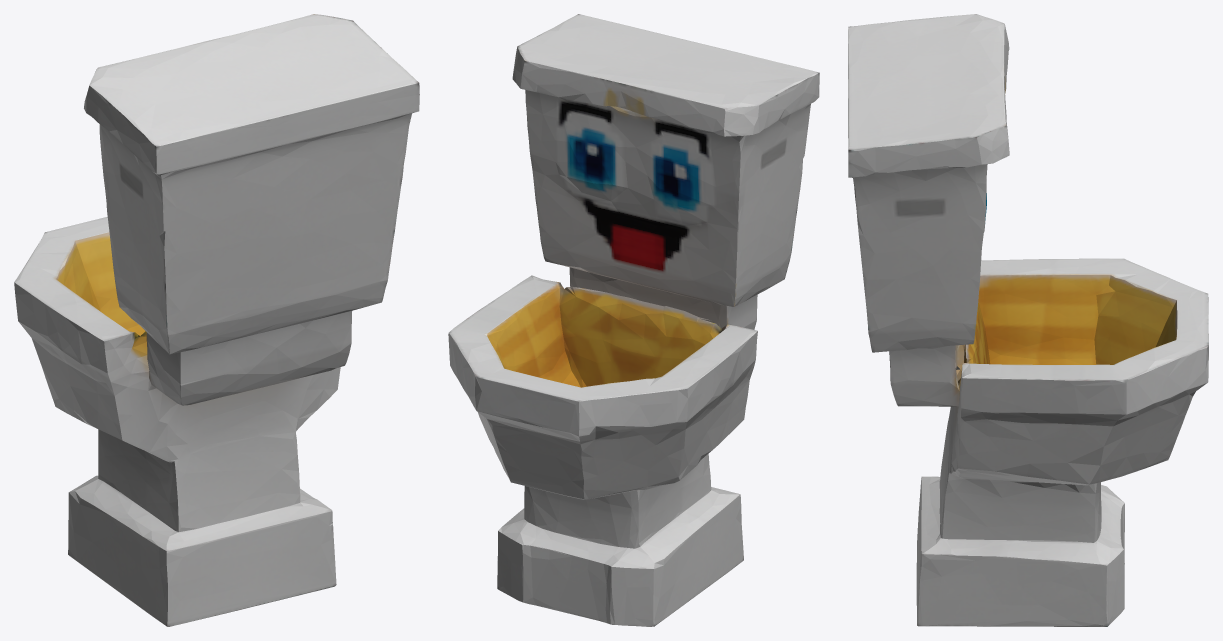
File: SpaghettiTualetti.glb
3 renders of one model, left to right at view 1: azimuth 30°, elevation 25°; view 2: azimuth 150°, elevation 25°; view 3: azimuth 270°, elevation 25°, orthographic. The views are drawn at different scales.
Visible parts, largest first — view 1: geometry_0; view 2: geometry_0; view 3: geometry_0.
Part boxes in pixels (x1,y1,x2,y2): geometry_0: [14, 14, 419, 626]; geometry_0: [448, 14, 819, 626]; geometry_0: [848, 14, 1208, 626].
Bounding box in the file's own units: 0.5238 × 1 × 0.6368.
Materials: 1 (1 with a texture image).
